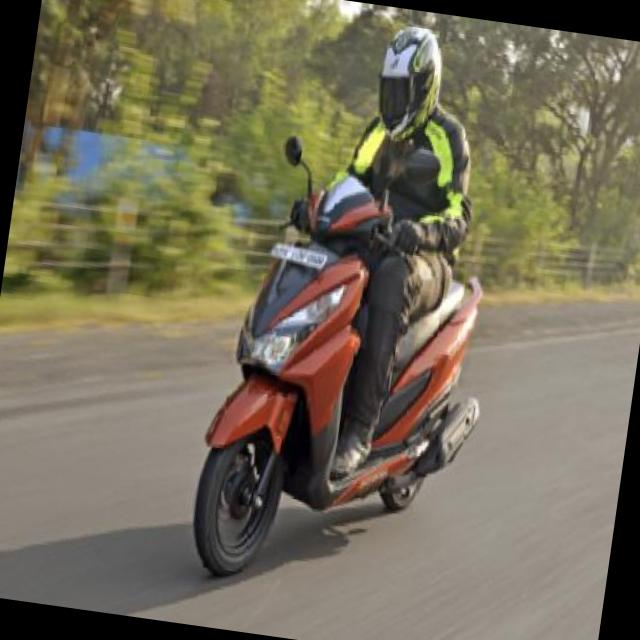With Helmet: (370, 19, 451, 147)
